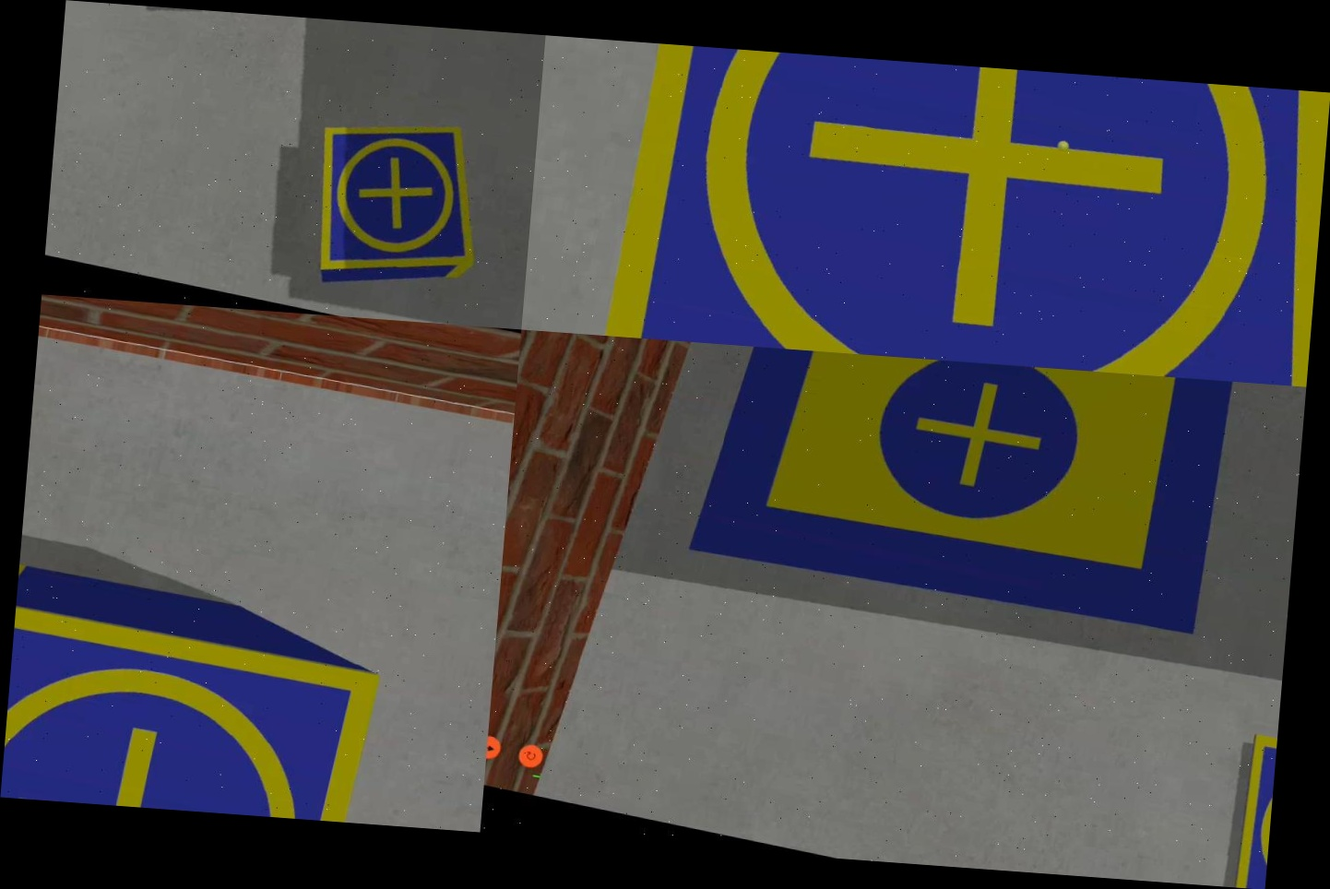large_base: (683, 343, 1265, 657)
small_base: (563, 38, 1330, 387), (0, 588, 390, 824), (292, 101, 507, 303)
